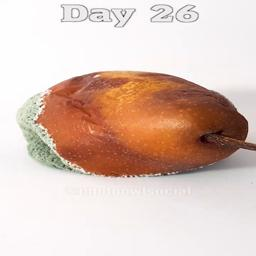Pear Rotten: (18, 68, 256, 177)
